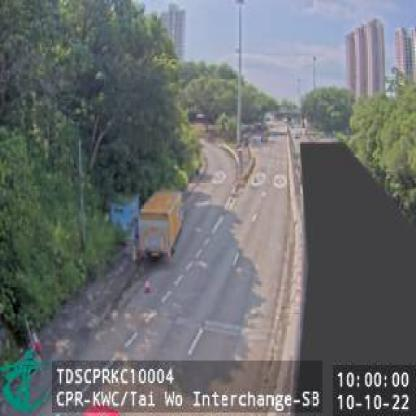Truck: (140, 184, 187, 258)
